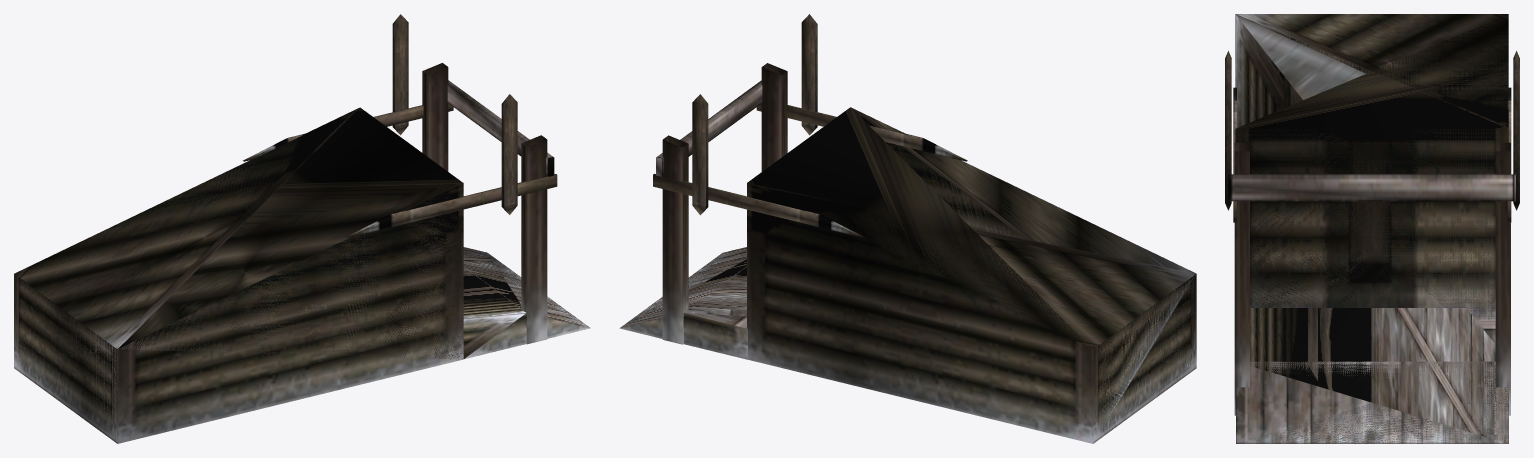
Rendered from stbuho20.dae.
3 views of the same model, side by side, from view 1: azimuth 30°, elevation 25°; view 2: azimuth 150°, elevation 25°; view 3: azimuth 270°, elevation 25° (orthographic). The views are drawn at different scales.
Visible parts, largest first — view 1: storage, roof1, roof2; view 2: storage, roof1, roof2; view 3: storage, roof2, roof1.
Boxes of the visible parts, x1=… form: storage: x1=14, y1=14, x2=590, y2=443; roof1: x1=14, y1=108, x2=463, y2=442; roof2: x1=14, y1=107, x2=587, y2=430; storage: x1=619, y1=14, x2=1196, y2=443; roof1: x1=748, y1=107, x2=1196, y2=443; roof2: x1=622, y1=107, x2=1196, y2=441; storage: x1=1225, y1=16, x2=1519, y2=443; roof2: x1=1235, y1=14, x2=1508, y2=443; roof1: x1=1236, y1=14, x2=1508, y2=128.
Bounding box in the file's own units: 4.91 × 2 × 2.55.
1 material, 1 textured.
